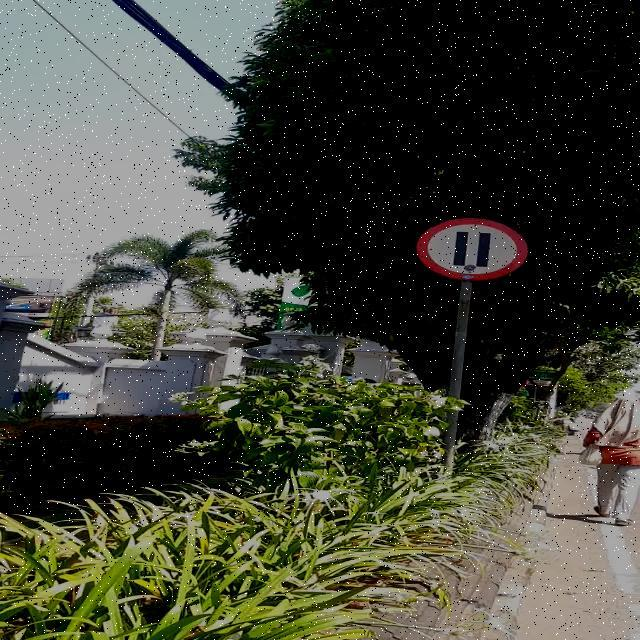Larangan Muatan - 10 ton: (416, 218, 528, 281)
